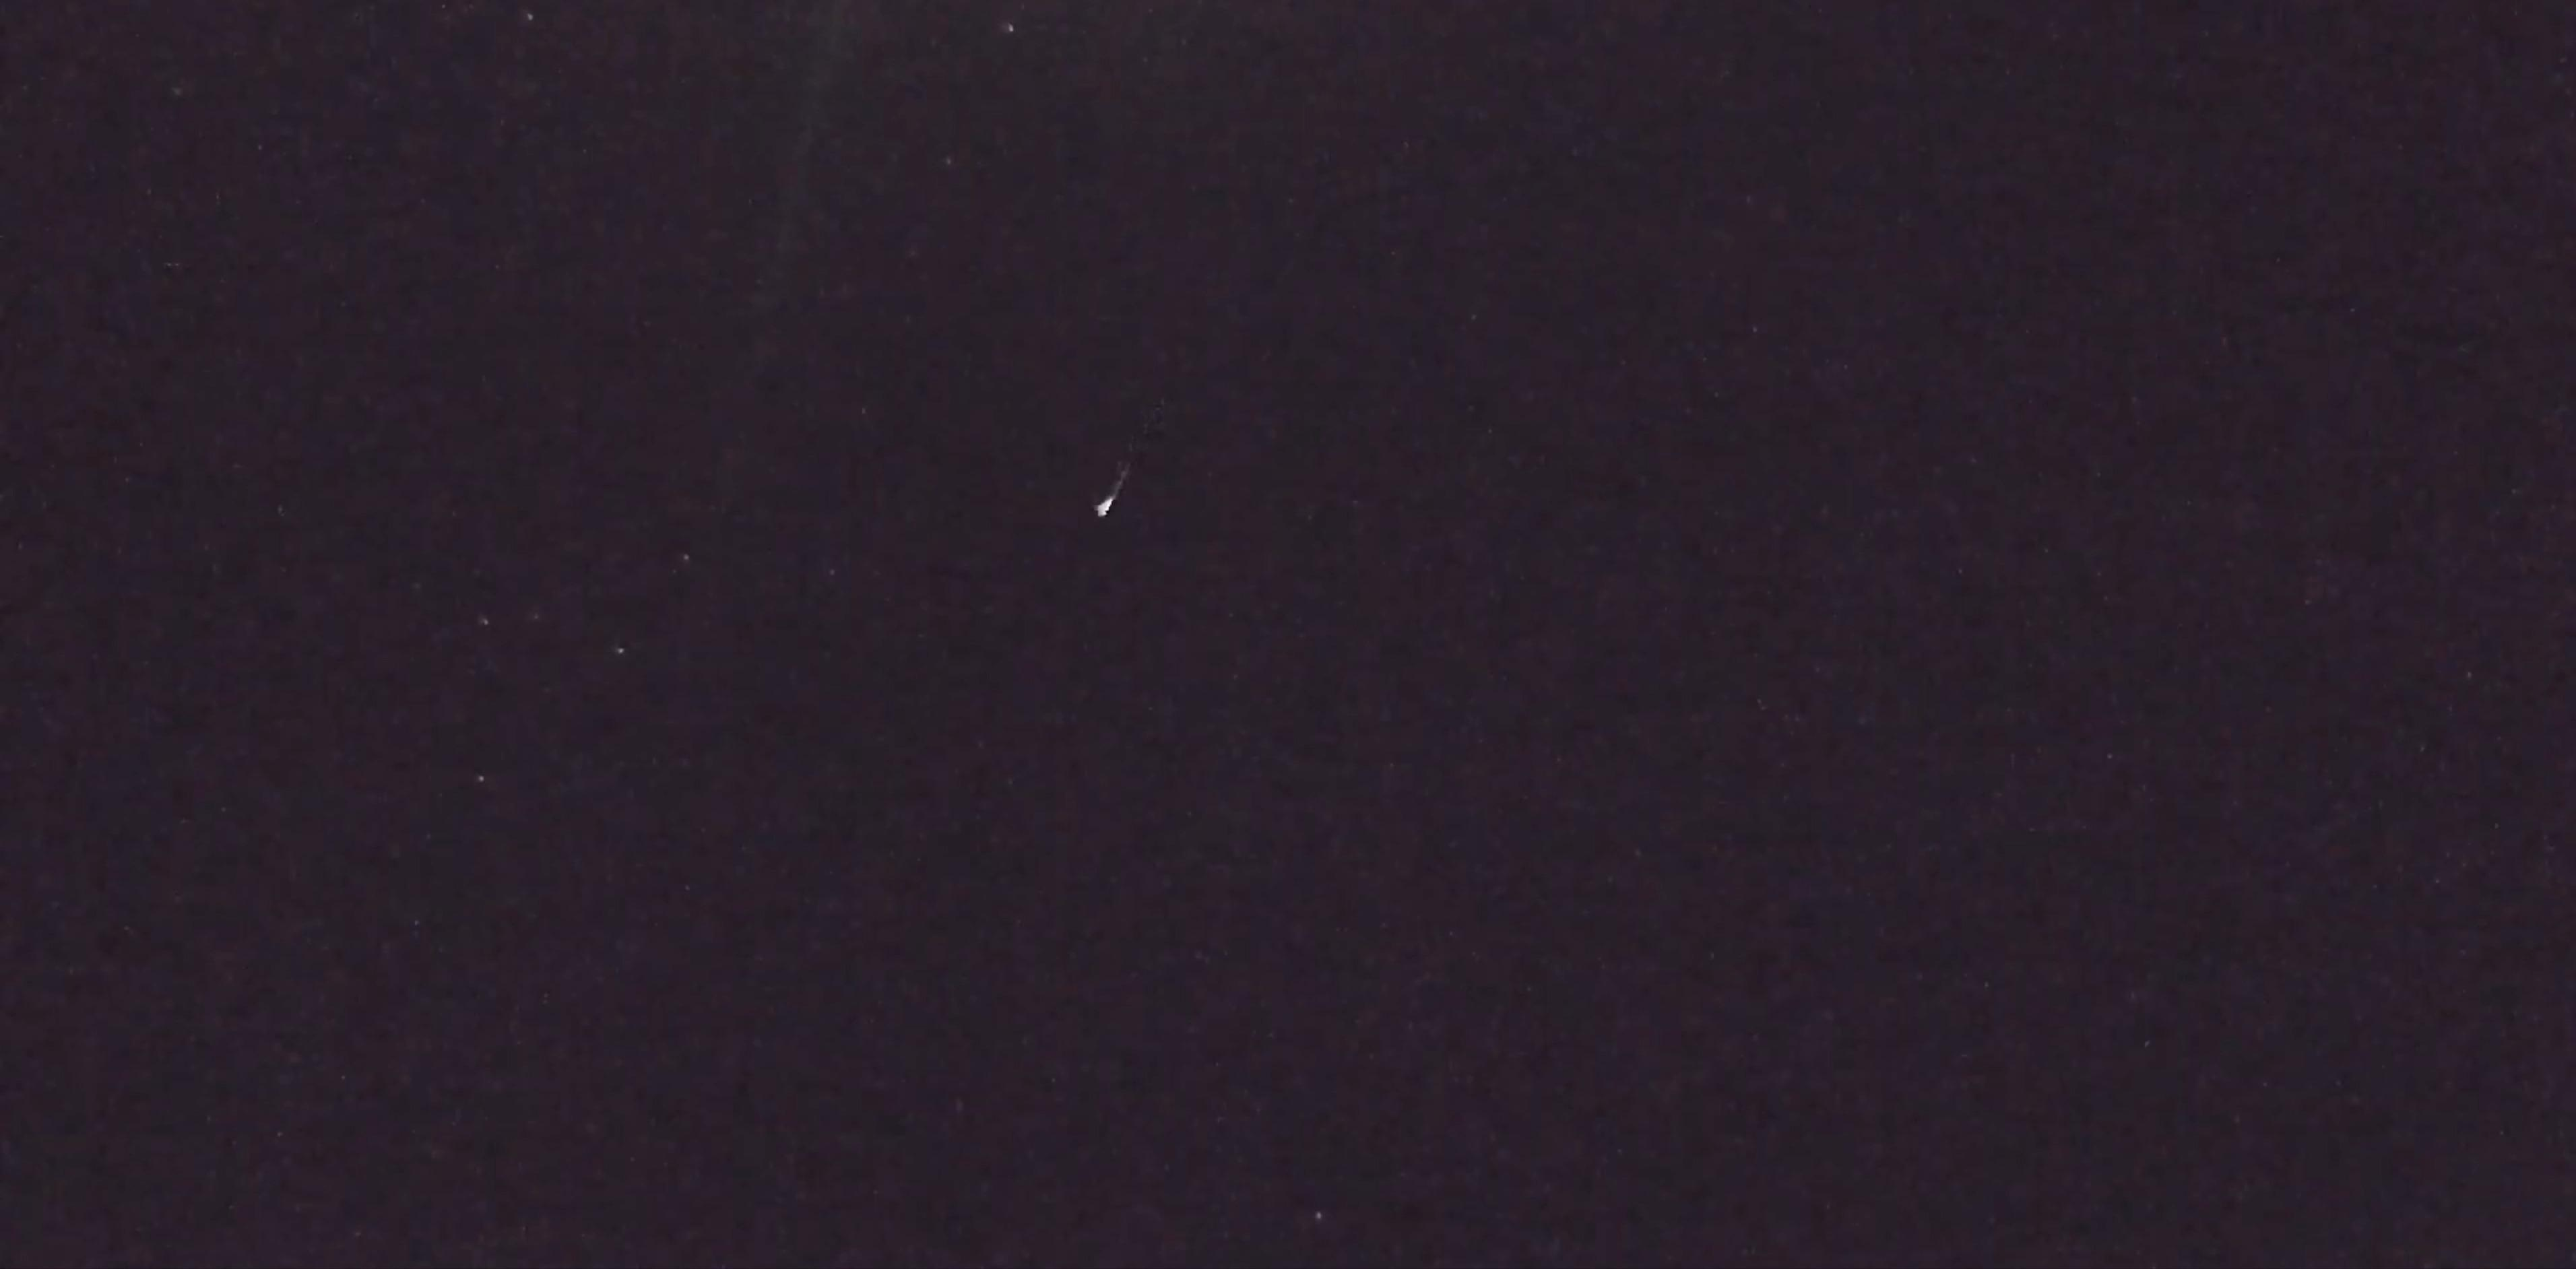meteorite: (1068, 327, 1163, 558)
